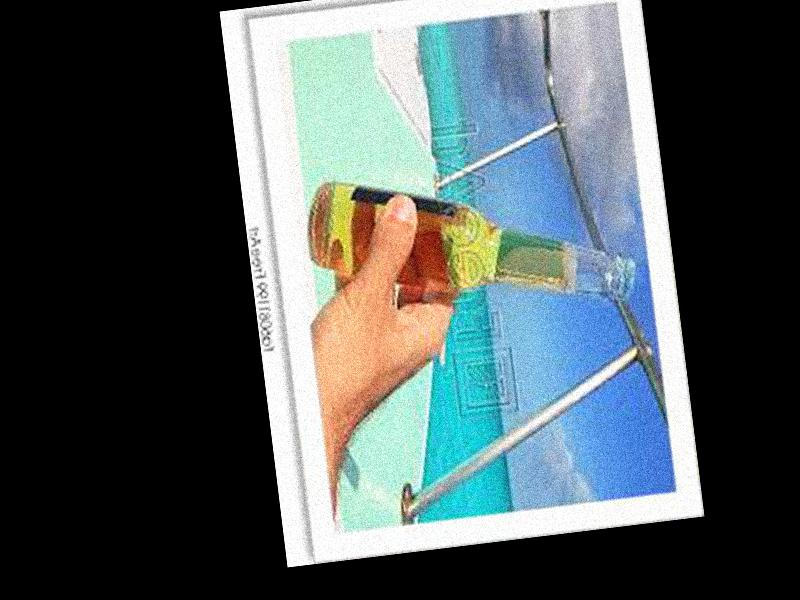Beer: (305, 144, 637, 345)
